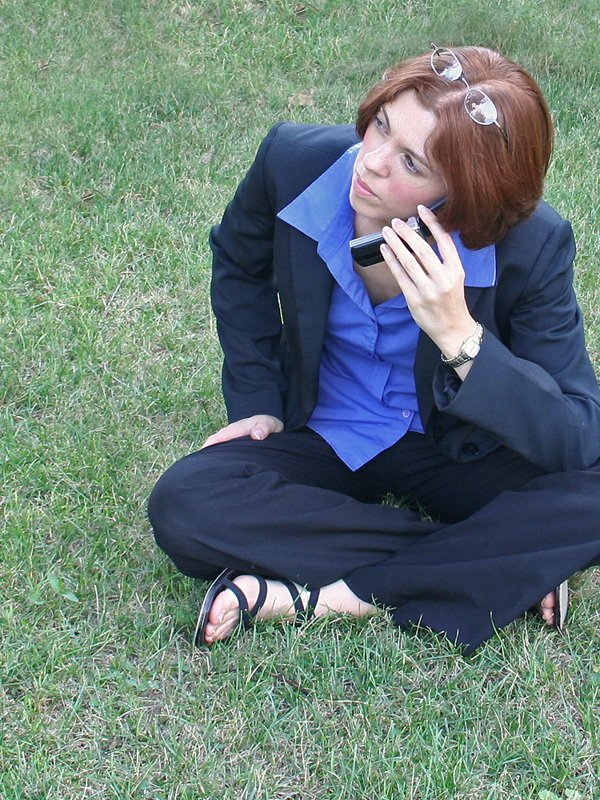phone: (342, 206, 478, 295)
talk: (339, 103, 484, 335)
